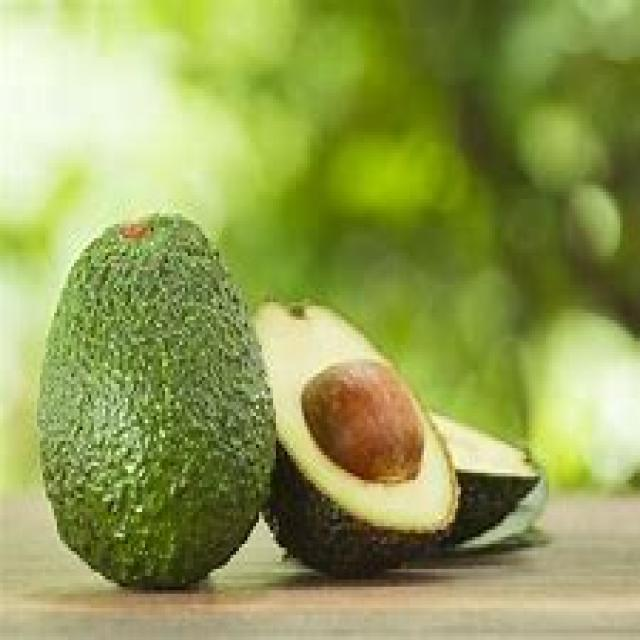avocado: (41, 215, 274, 597), (239, 296, 465, 584)
